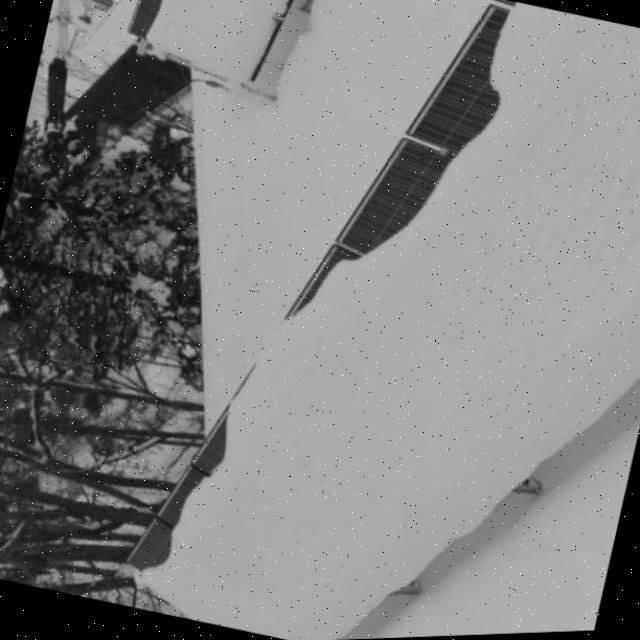Anomaly Solar Panel: (125, 4, 640, 640), (127, 0, 295, 89)
Snow: (115, 6, 640, 640), (144, 0, 292, 85)
